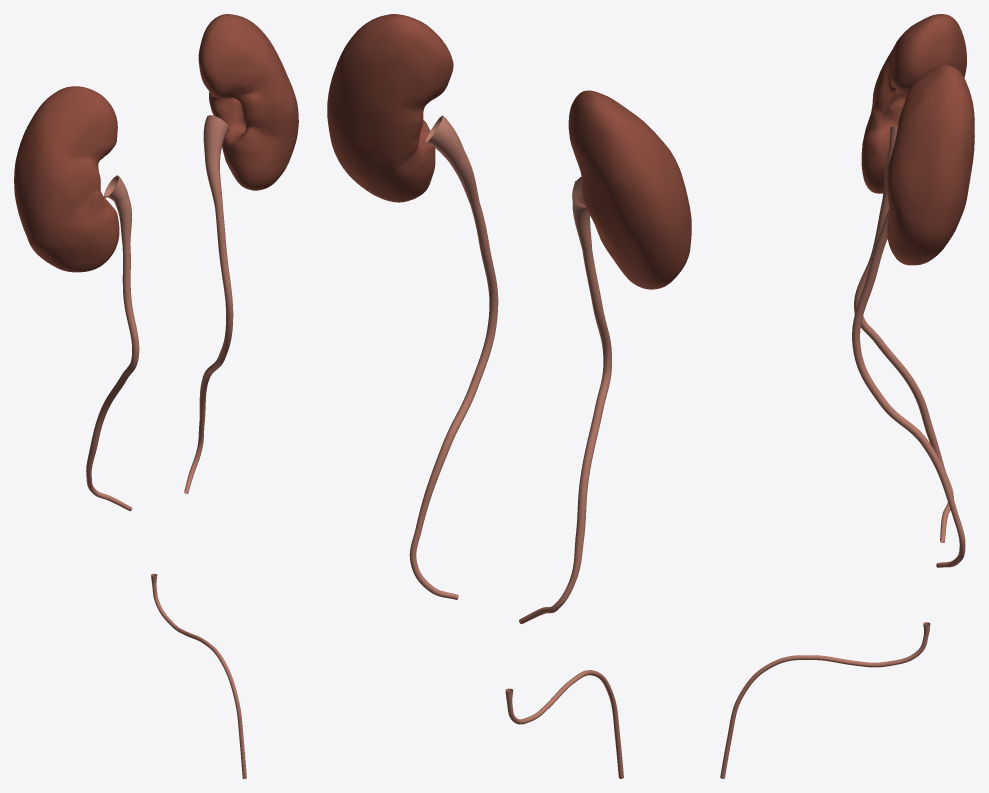
Rendered from urinary.glb.
3 views of the same model, side by side, from view 1: azimuth 30°, elevation 25°; view 2: azimuth 150°, elevation 25°; view 3: azimuth 270°, elevation 25° (orthographic). The views are drawn at different scales.
Parts seen in each view (by area): view 1: kidney_r, kidney_l, ureter_l, ureter_r, urethra; view 2: kidney_l, kidney_r, ureter_l, ureter_r, urethra; view 3: kidney_l, kidney_r, ureter_l, ureter_r, urethra.
Boxes of the visible parts, x1,y1,x2,y2 form: kidney_r: (14, 86, 119, 272); kidney_l: (198, 14, 298, 190); ureter_l: (184, 115, 233, 493); ureter_r: (86, 175, 139, 511); urethra: (151, 573, 246, 778); kidney_l: (327, 14, 453, 202); kidney_r: (568, 90, 691, 289); ureter_l: (409, 115, 498, 599); ureter_r: (519, 176, 611, 623); urethra: (505, 670, 623, 778); kidney_l: (887, 64, 974, 265); kidney_r: (861, 14, 966, 193); ureter_l: (852, 209, 965, 567); ureter_r: (854, 125, 953, 542); urethra: (720, 622, 930, 778).
Bounding box in the file's own units: 0.1809 × 0.4188 × 0.1281.
